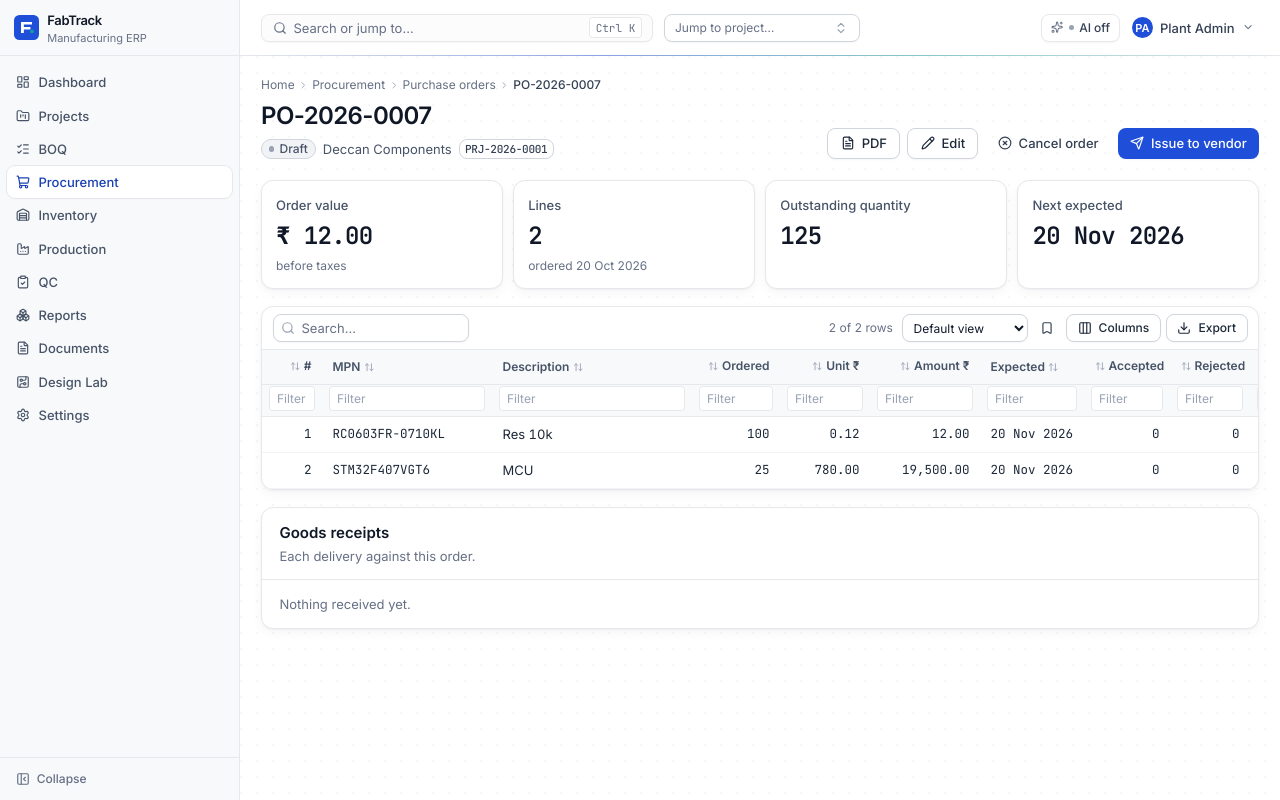
Test: Purchase order and receiving › issues a draft order after confirmation
Click the button "Issue to vendor" at (1188, 143), box [1118,128,1259,159]
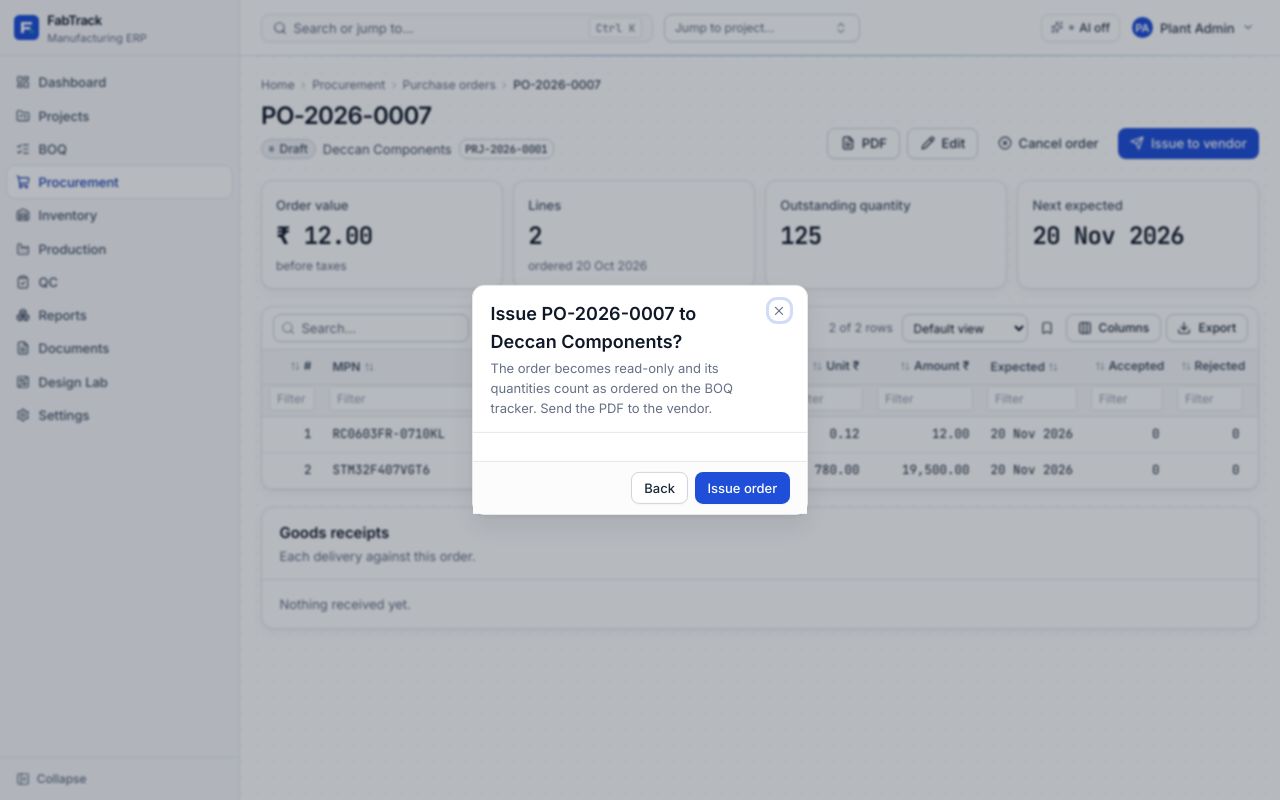
Click the button "Issue order" at (742, 488), box [695,472,790,504]
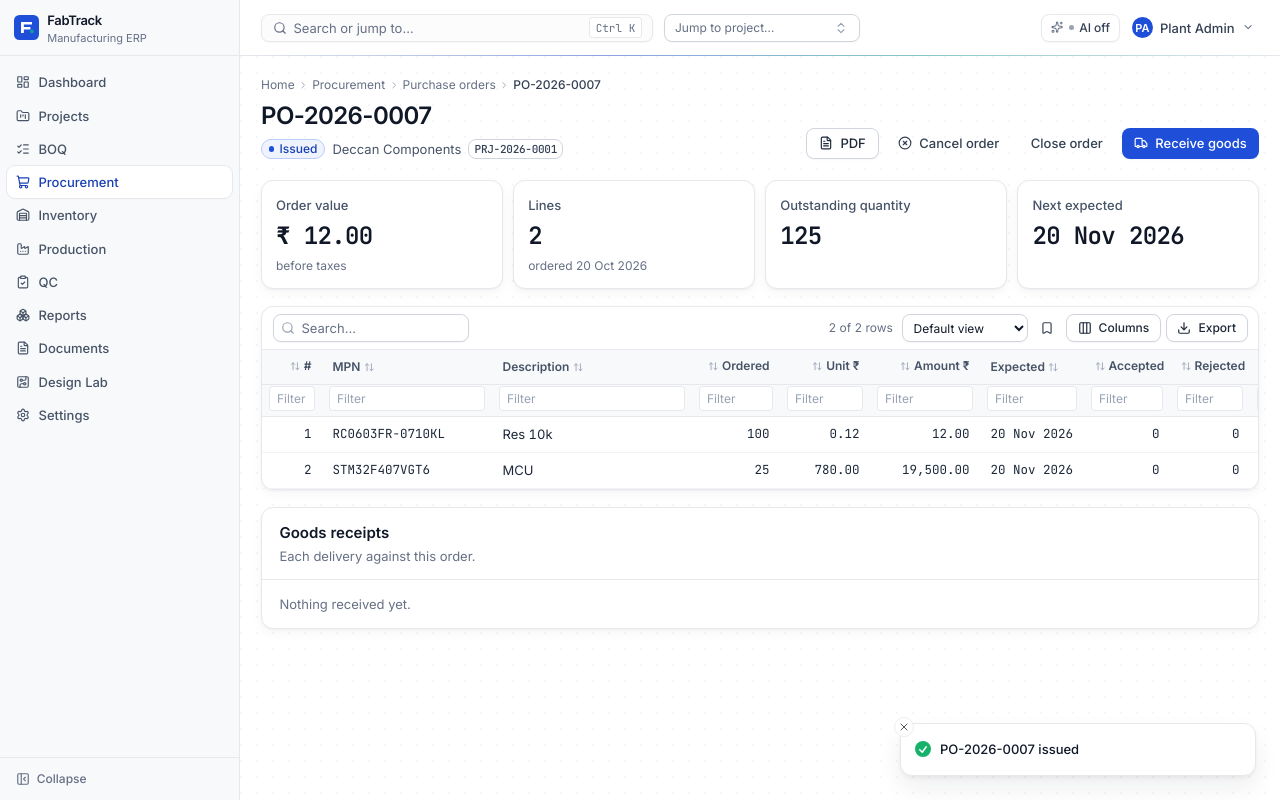
Now the text "PO-2026-0007 issued" is shown, box [940,740,1079,759]
